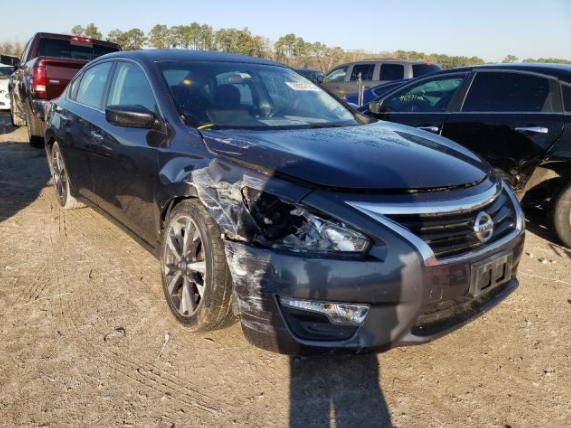Back-door: (54, 58, 117, 204)
Back-wheel: (51, 141, 88, 210)
Back-window: (67, 62, 114, 110)
Fender: (154, 122, 312, 249)
Front-bumper: (222, 164, 526, 359)
Front-door: (97, 58, 164, 252)
Front-wheel: (160, 197, 239, 333)
Front-window: (105, 62, 164, 119)
Grille: (344, 177, 525, 266)
Headlight: (242, 185, 388, 261)
Hood: (198, 119, 491, 189)
Mirror: (105, 105, 175, 148)
Quarter-panel: (44, 101, 59, 179)
Rocker-panel: (70, 185, 160, 261)
Roof: (86, 48, 289, 67)
Tail-light: (46, 104, 52, 119)
Windshield: (154, 60, 364, 131)
